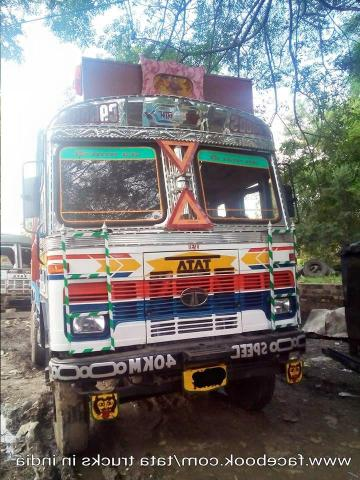truck: (24, 44, 314, 452)
